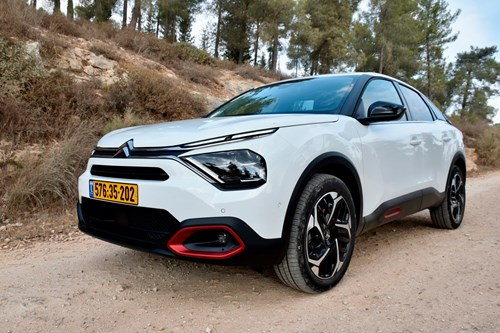licence: (87, 176, 139, 206)
